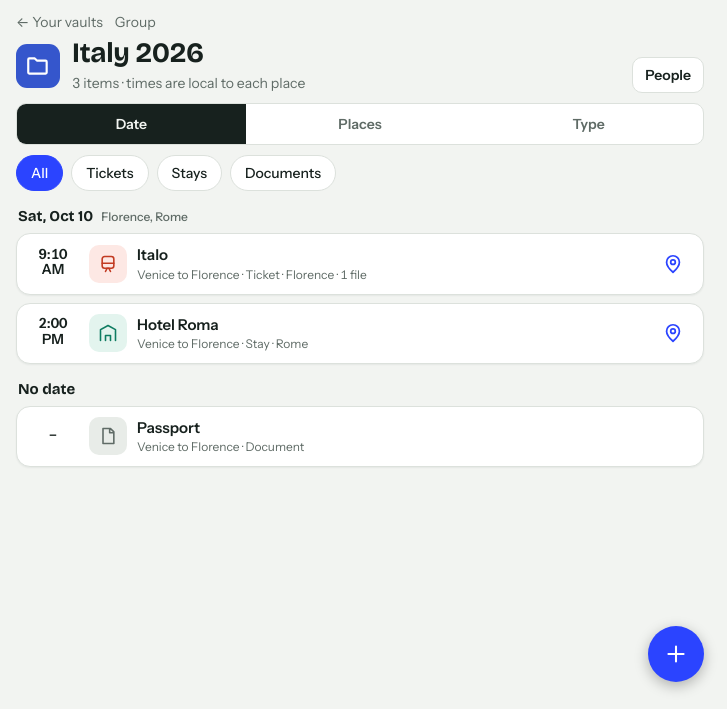
Test case: vault list › switches to places and to types, and filters by type
Step 1. Click the button "Places" → (360, 124), box left=246, top=104, right=474, bottom=144
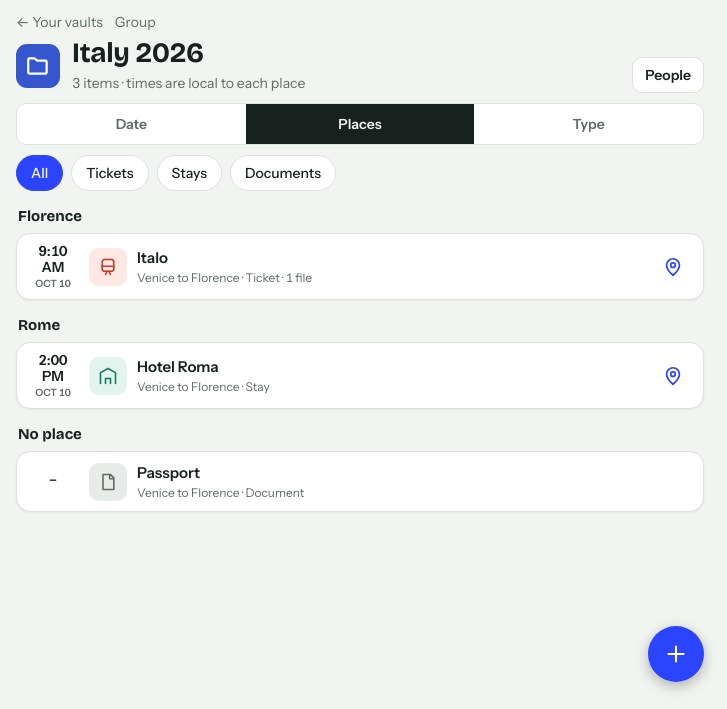
Check: the element "Florence" is shown, box left=16, top=207, right=704, bottom=300
Check: the element "No place" is shown, box left=16, top=425, right=704, bottom=512
Step 2. Click the button "Type" → (589, 124), box left=474, top=104, right=703, bottom=144
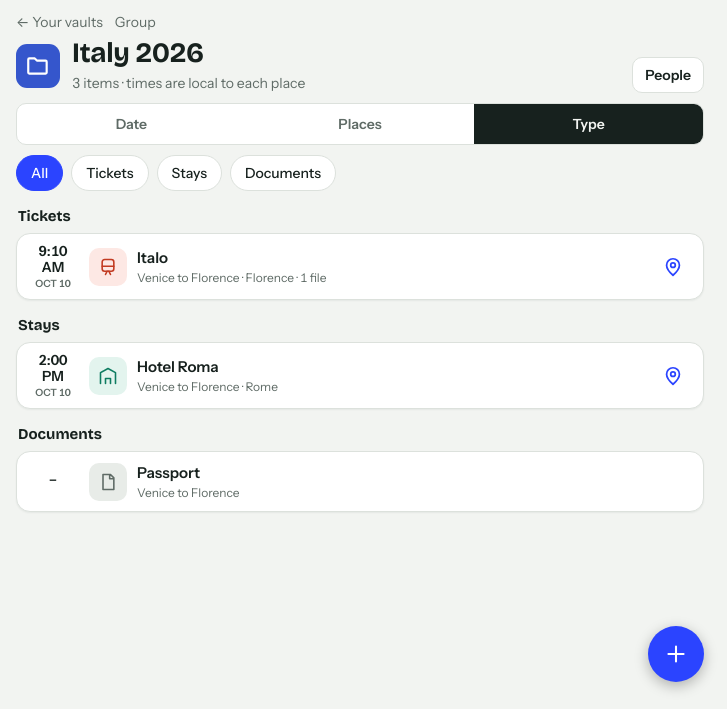
Check: the element "Stays" is shown, box left=16, top=316, right=704, bottom=409
Step 3. Click the button "Documents" → (283, 173), box left=230, top=155, right=336, bottom=191
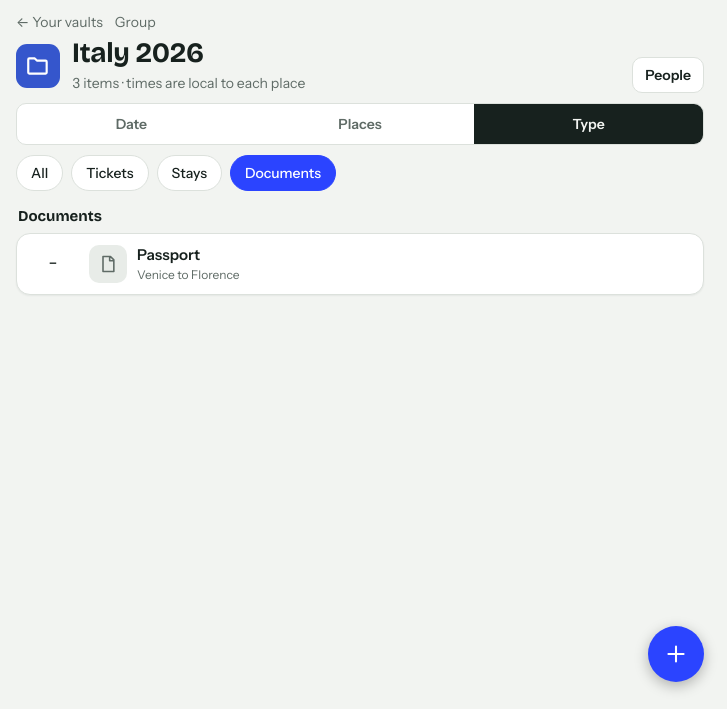
Check: the text "Passport" is shown, box left=137, top=245, right=200, bottom=264
Check: the link "Hotel Roma" is gone
